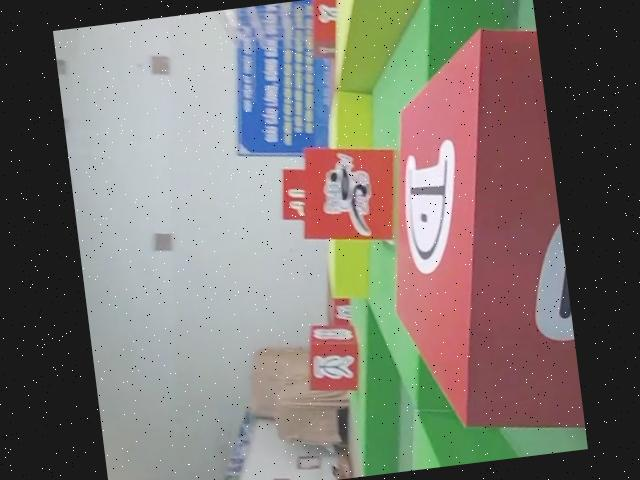R1: (293, 137, 404, 250)
R2 Fake: (300, 318, 371, 396)
R2 Real: (361, 23, 585, 450)
